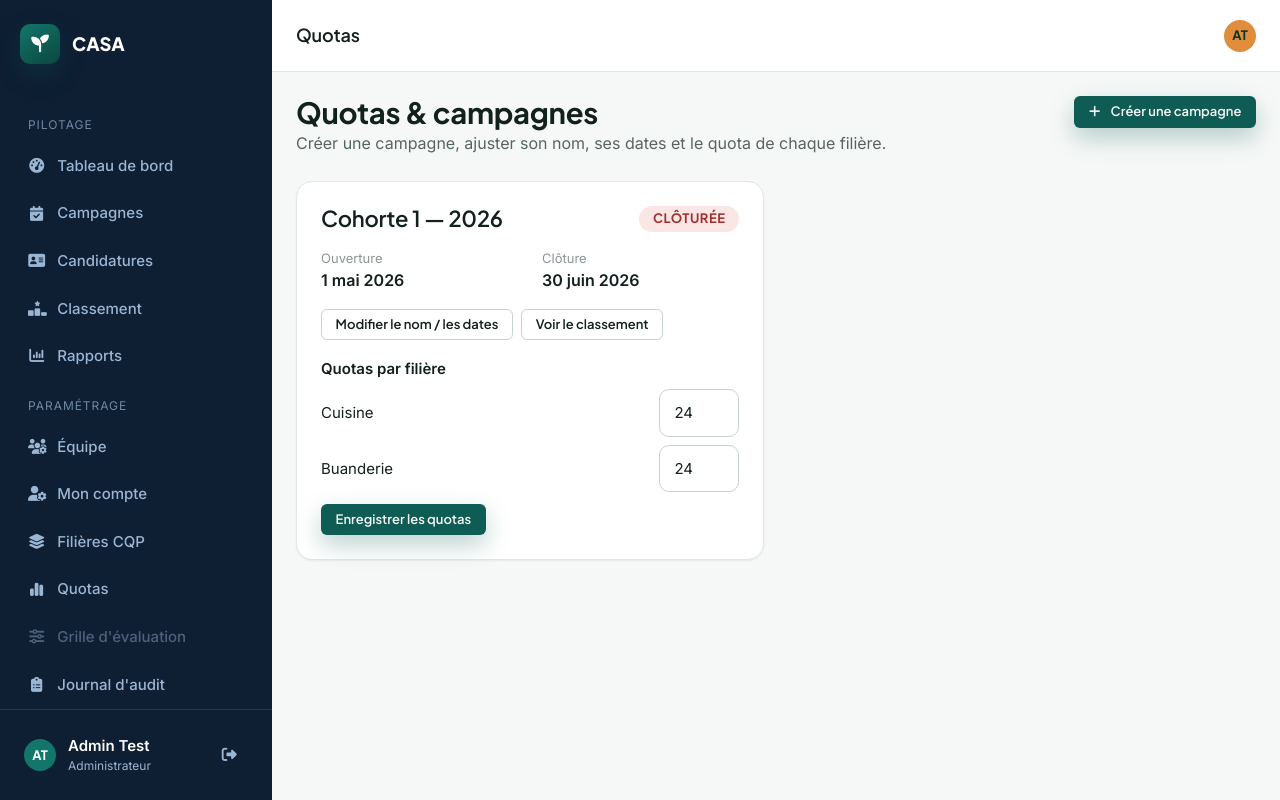
Test: Quotas (Lot 17) — création + édition nom/dates + édition quotas › campagne clôturée : les champs date du modal sont désactivés, un avertissement est affiché
expect the heading "Cohorte 1 — 2026" is shown: met, box [321,206,503,231]
What coordinates should you click on to do the following:
click the button "Modifier le nom / les dates"
I would click on:
 (417, 324)
Its box is [321,309,513,340].
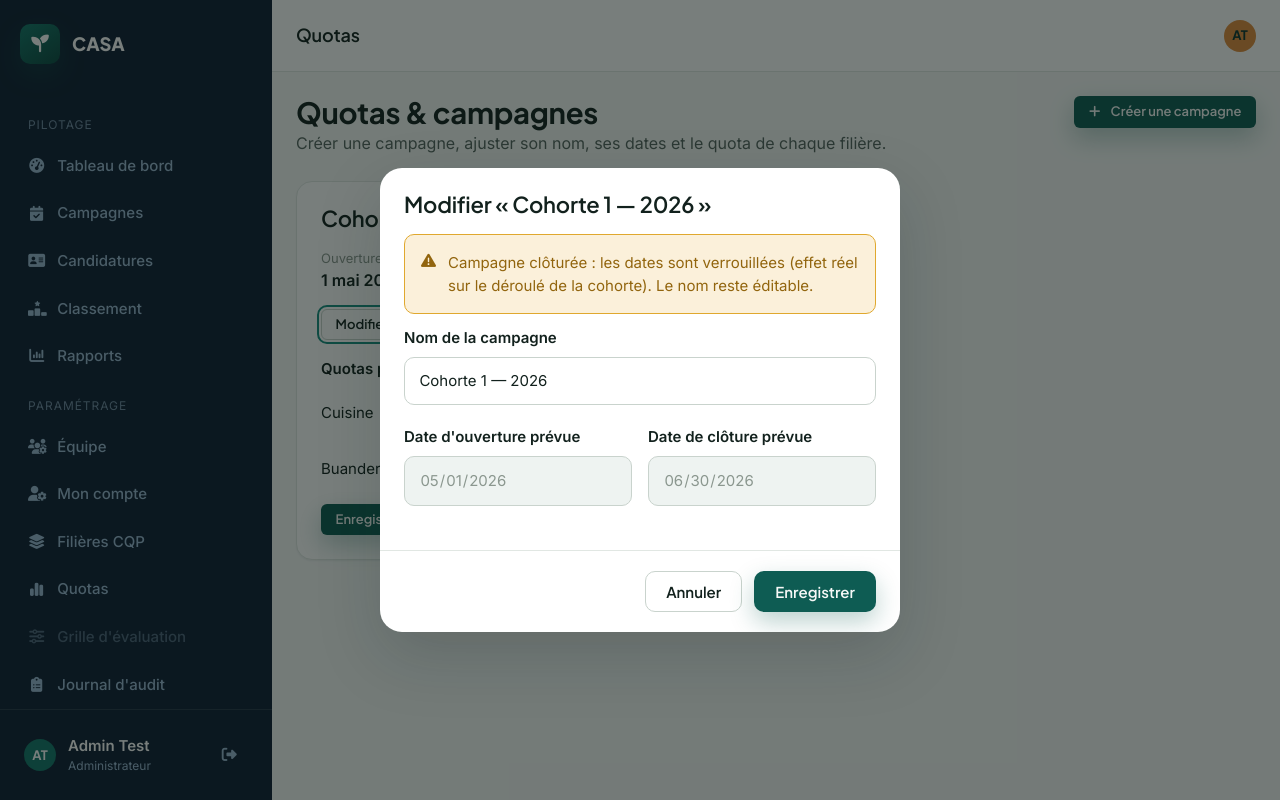
expect the date field labelled "Date d'ouverture prévue" is disabled: met, box [404,456,632,506]
expect the date field labelled "Date de clôture prévue" is disabled: met, box [648,456,876,506]
expect the field labelled "Nom de la campagne" is enabled: met, box [404,357,876,405]
